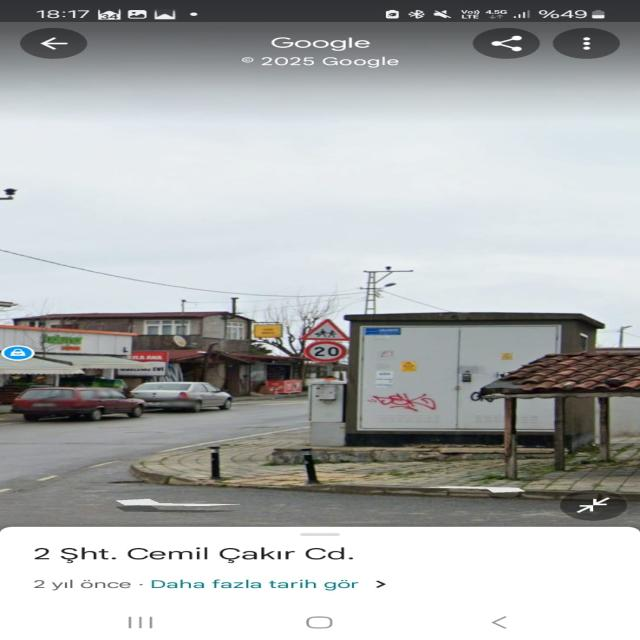okul_gecidi: (299, 318, 353, 341)
